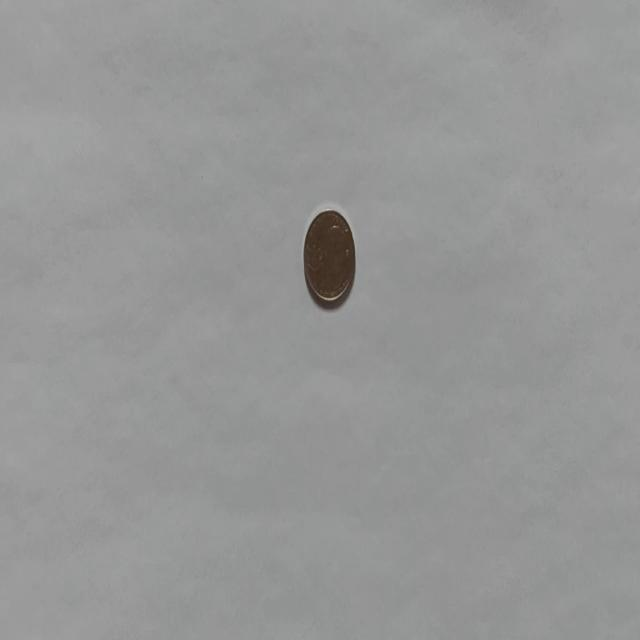seribu rupiah koin: (302, 205, 356, 308)
